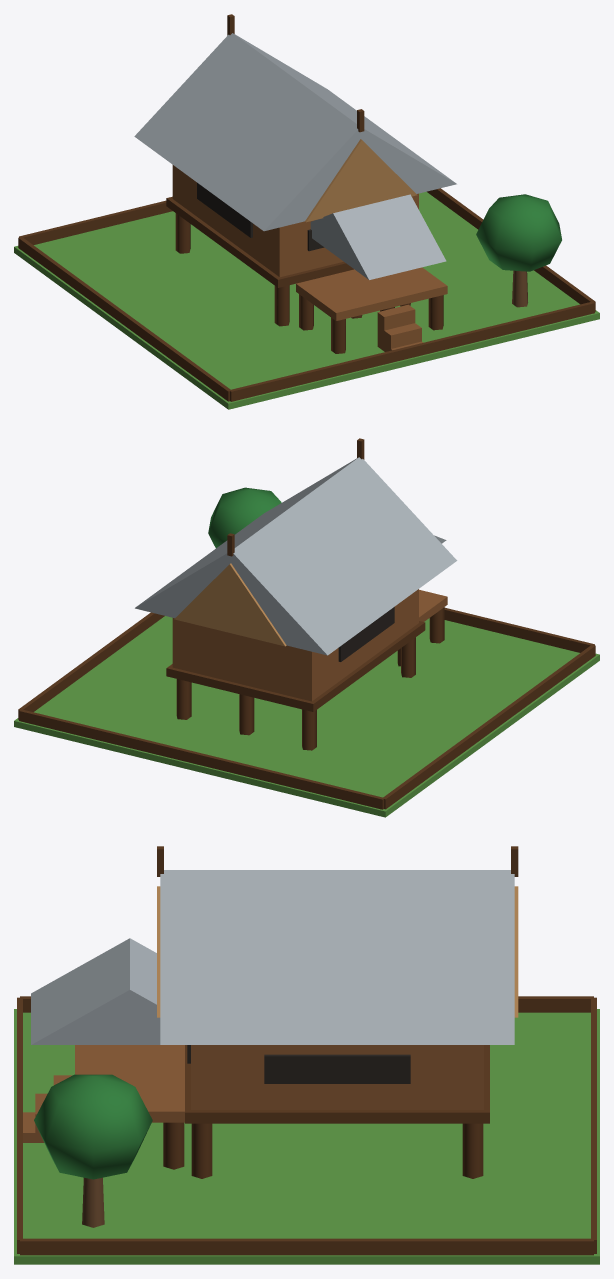
The model's file is zone_R_d1_e2.glb.
3 renders of one model, top to bottom at view 1: azimuth 30°, elevation 25°; view 2: azimuth 150°, elevation 25°; view 3: azimuth 270°, elevation 25°, orthographic. The views are drawn at different scales.
Parts seen in each view (by area): view 1: zone_R_d1_e2; view 2: zone_R_d1_e2; view 3: zone_R_d1_e2.
Part boxes in pixels (box(x1,y1,x2,y2)): zone_R_d1_e2: box(14, 14, 599, 409); zone_R_d1_e2: box(14, 438, 599, 817); zone_R_d1_e2: box(14, 846, 599, 1264).
Bounding box in the file's own units: 0.96 × 0.53 × 0.96.
